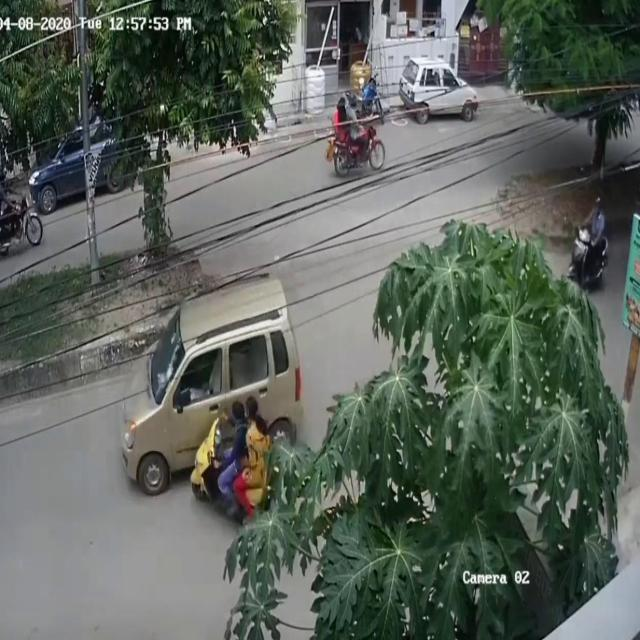accident: (116, 264, 320, 528)
